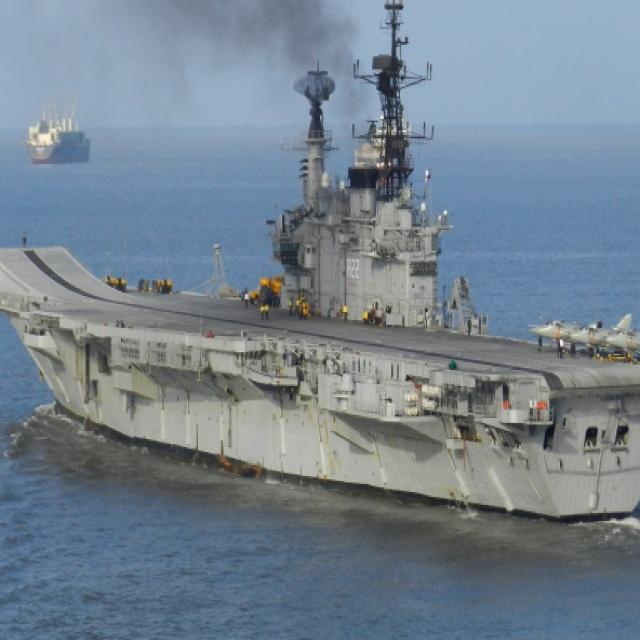Portanaves: (1, 1, 640, 532)
